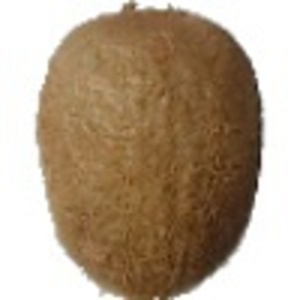kiwi: (34, 1, 265, 300)
